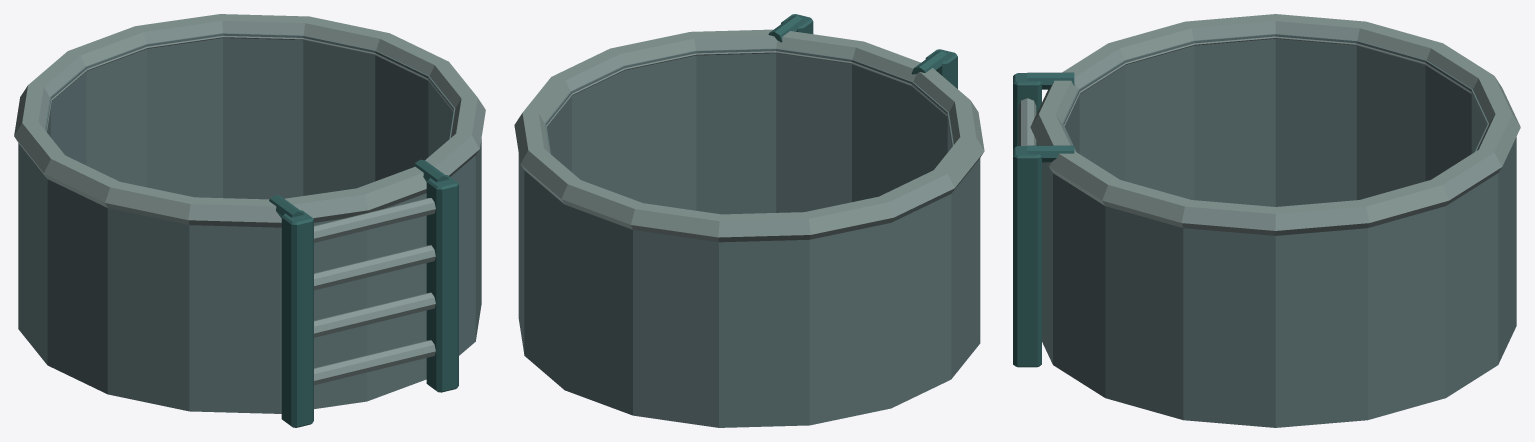
File: settling-tank.glb
The picture shows the model from 3 angles, left to right: view 1: azimuth 30°, elevation 25°; view 2: azimuth 150°, elevation 25°; view 3: azimuth 270°, elevation 25°; orthographic projection. The views are drawn at different scales.
Visible parts, largest first — view 1: settling-tank__body; view 2: settling-tank__body; view 3: settling-tank__body.
Boxes of the visible parts, x1=… form: settling-tank__body: x1=14, y1=14, x2=485, y2=427; settling-tank__body: x1=514, y1=14, x2=984, y2=427; settling-tank__body: x1=1013, y1=14, x2=1520, y2=427.
Bounding box in the file's own units: 1.36 × 0.665 × 1.41.
